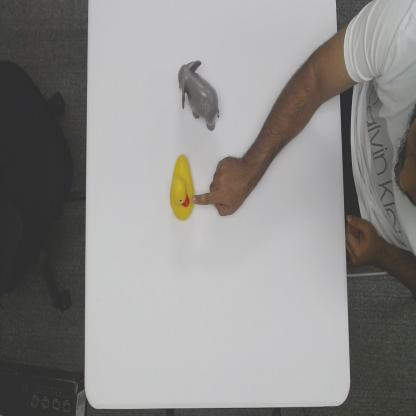Arm: (245, 34, 337, 202)
Duck: (169, 154, 195, 221)
Elephant: (177, 60, 220, 132)
Hand: (193, 154, 251, 220)
